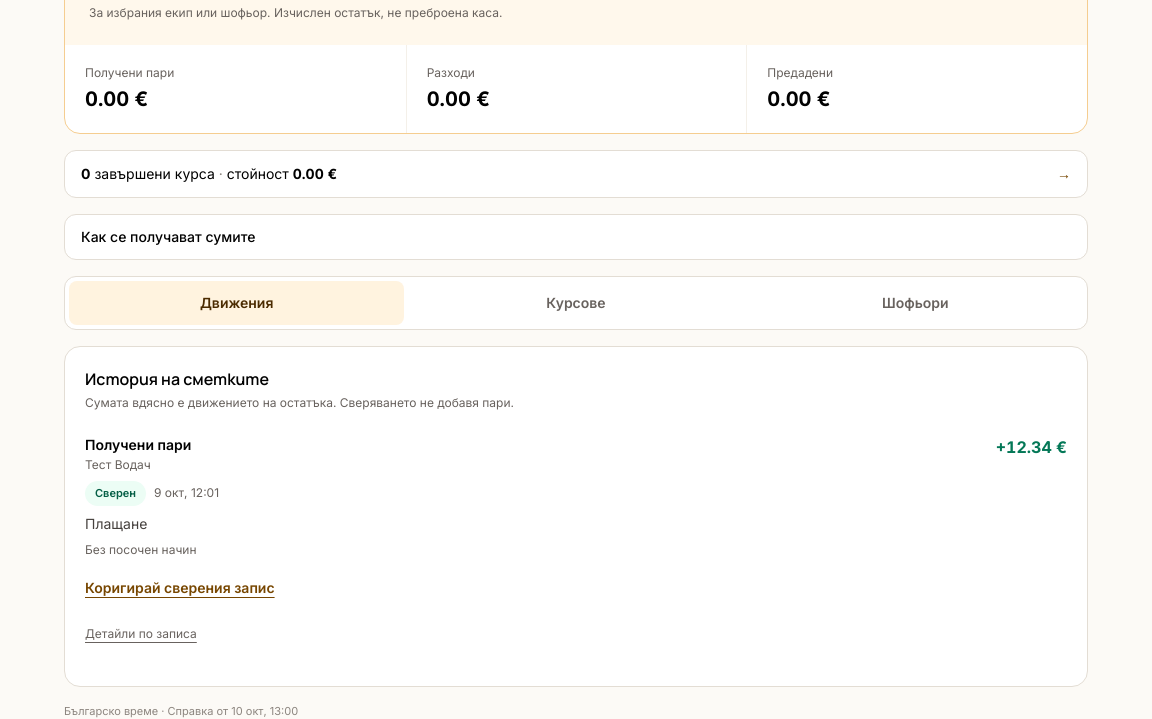
Scenario: requires evidence for an administrator correction of confirmed money
(page scrolled)
Click the button "Коригирай сверения запис": x=180, y=588 left=85, top=566, right=275, bottom=610
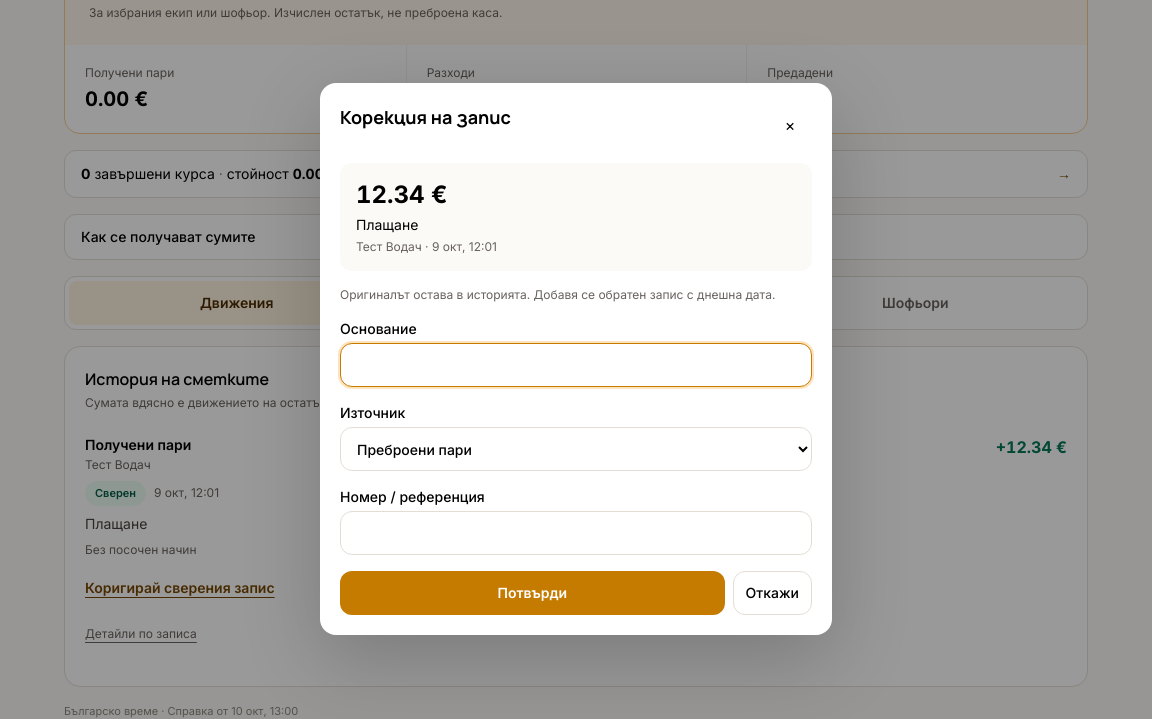
In the field labelled "Основание": x=576, y=365 left=340, top=343, right=812, bottom=387, type "Грешен документ"
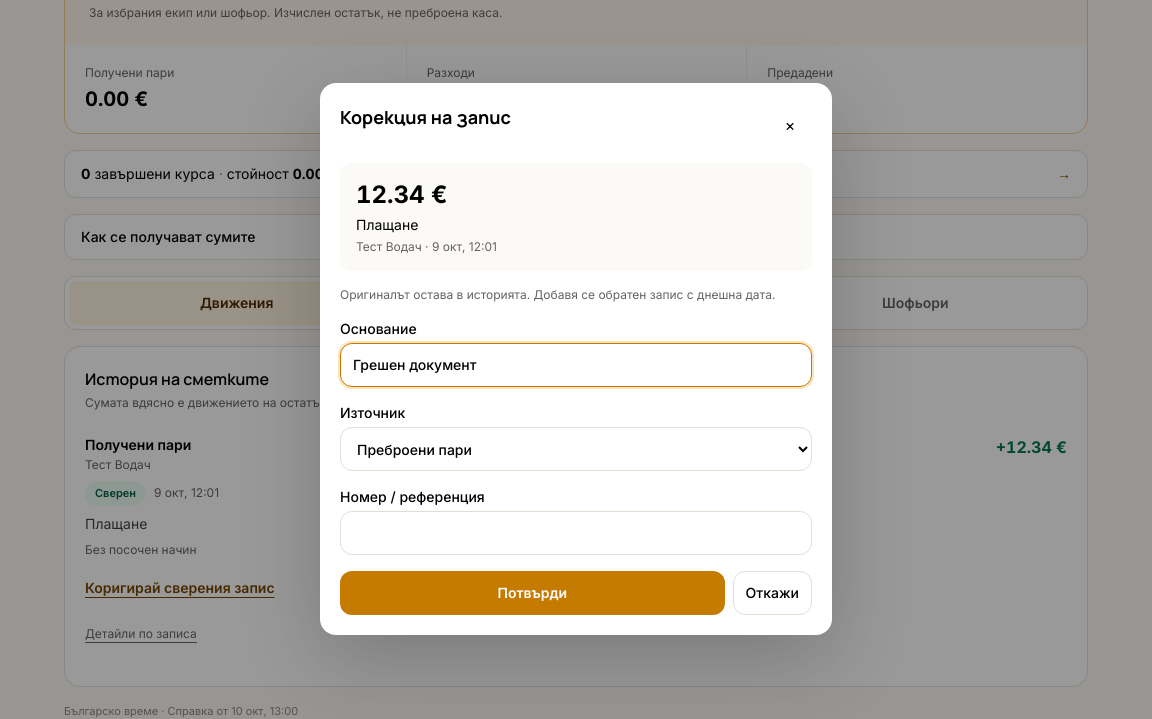
Select "Разписка / документ" in the dropdown labelled "Източник": x=576, y=449 left=340, top=427, right=812, bottom=471
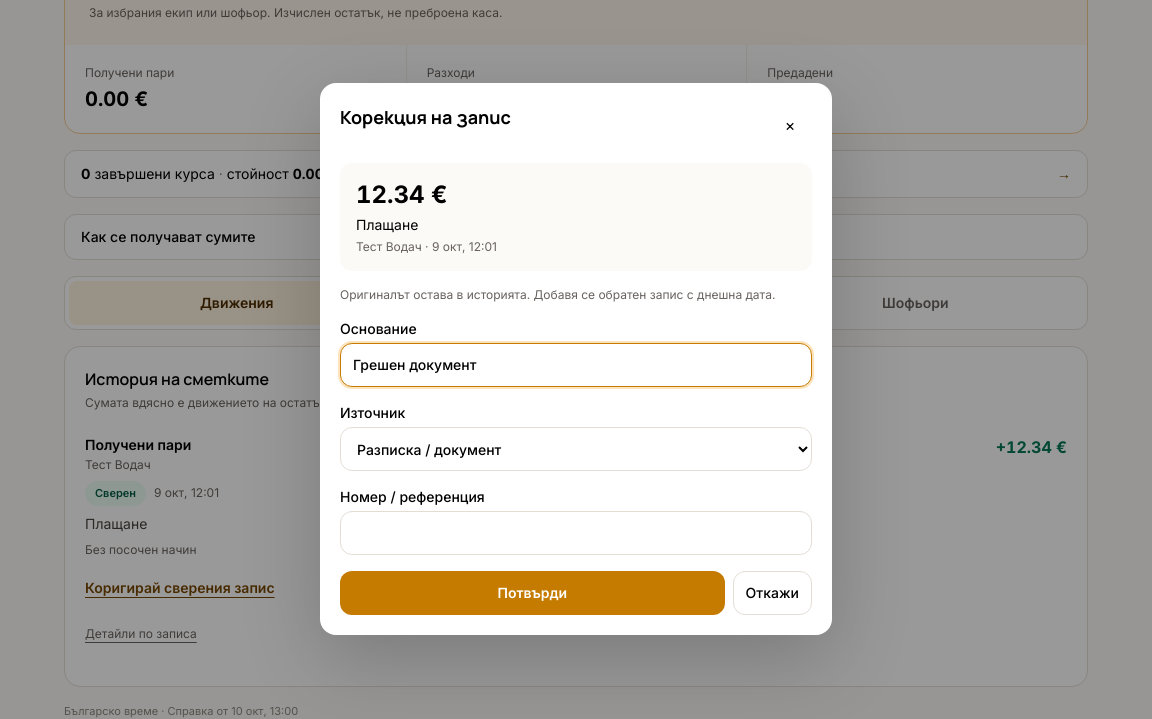
In the field labelled "Номер / референция": x=576, y=533 left=340, top=511, right=812, bottom=555, type "R-2"
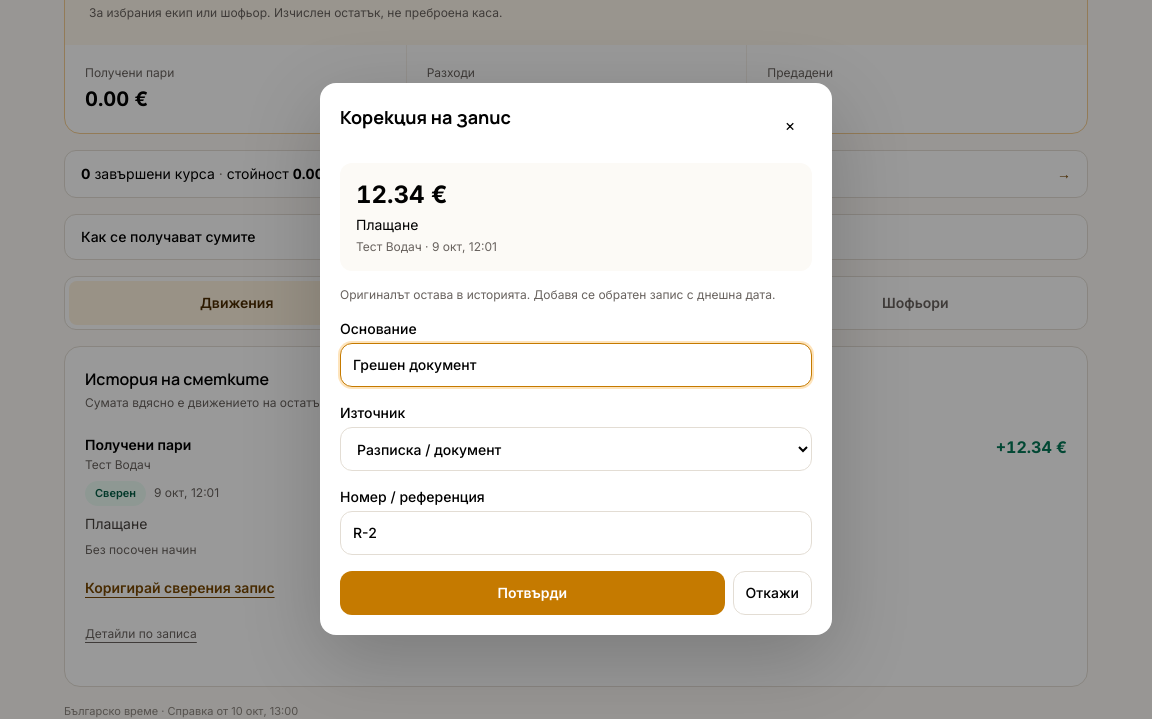
Click the button "Потвърди": x=532, y=593 left=340, top=571, right=725, bottom=615
(page scrolled)
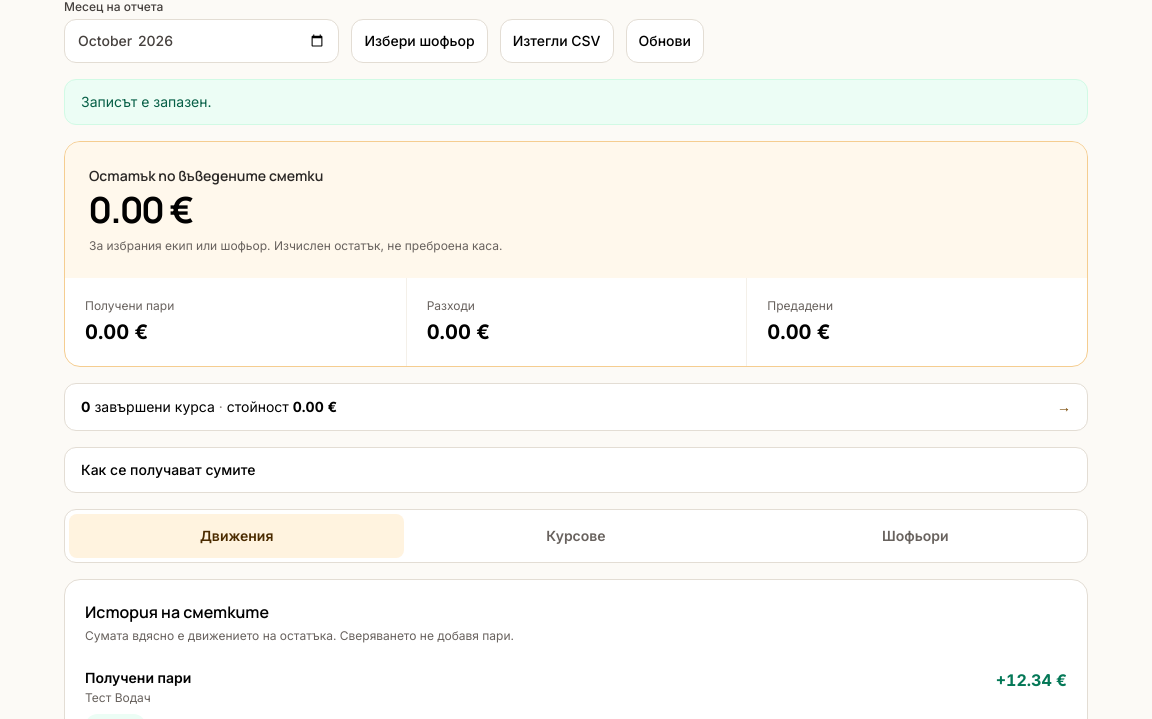
Result: the text "Записът е запазен." is shown at left=64, top=79, right=1088, bottom=125
